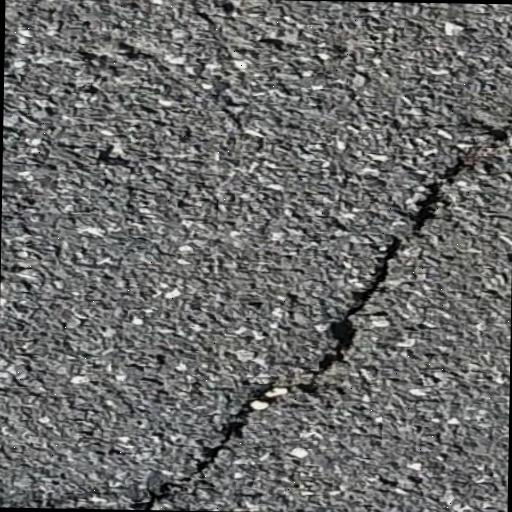spalling: (112, 111, 506, 507)
